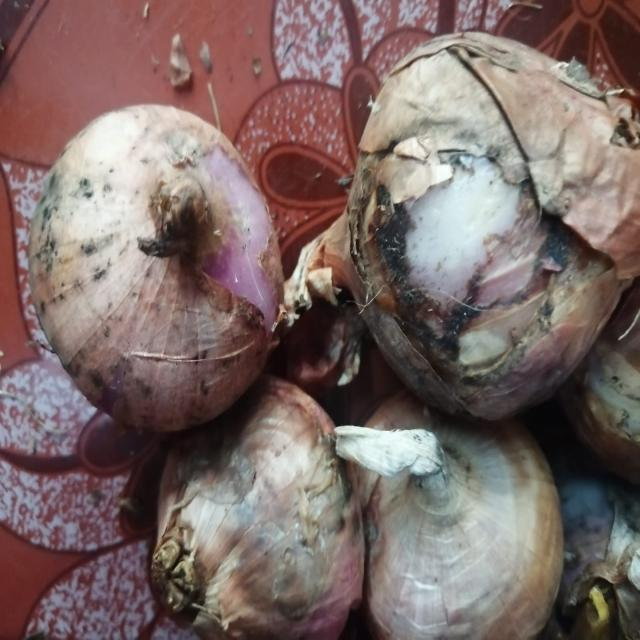rotten: (363, 152, 527, 370), (30, 180, 124, 382)
